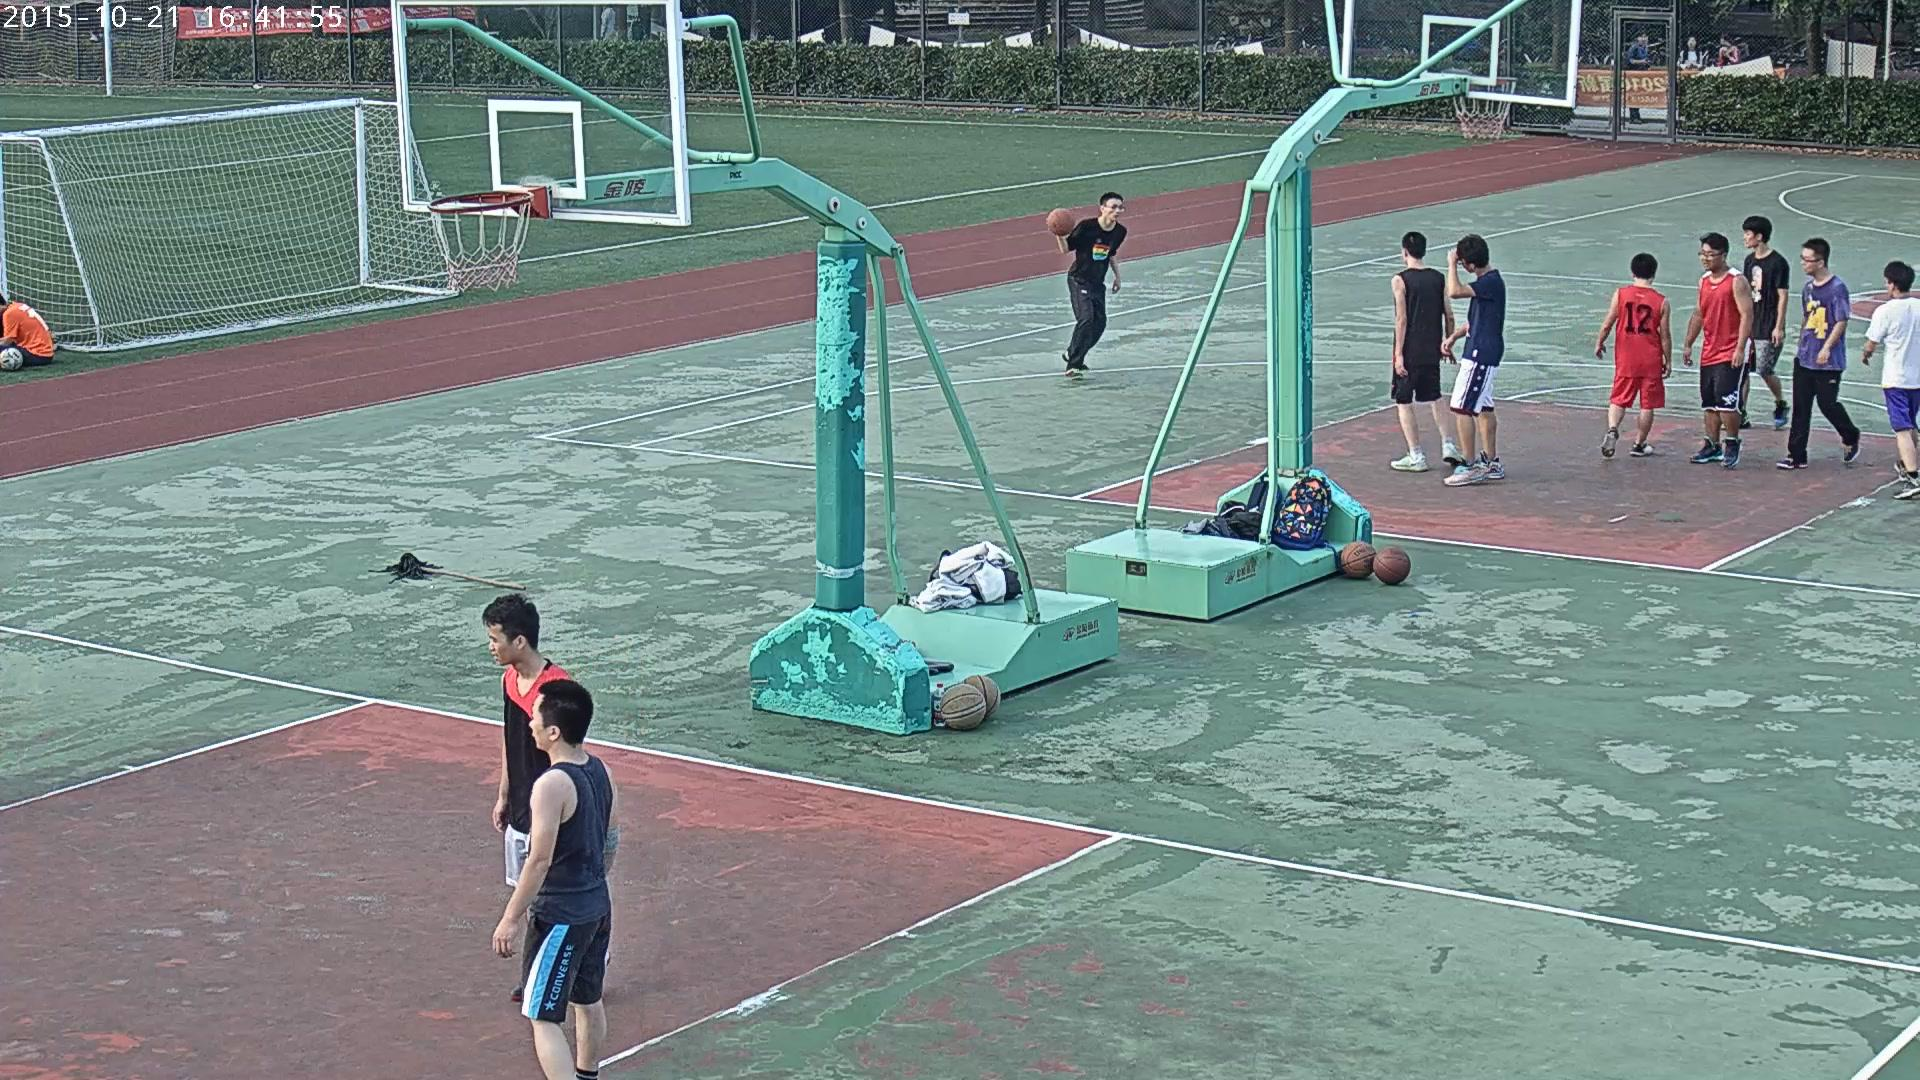face: (487, 623, 515, 664), (529, 694, 550, 748), (1700, 243, 1721, 270), (1800, 248, 1818, 275), (1103, 198, 1122, 220), (1744, 230, 1756, 247), (1461, 259, 1470, 272), (1687, 36, 1694, 48), (1885, 278, 1890, 296), (1638, 34, 1647, 44), (1720, 38, 1725, 45), (1822, 33, 1827, 41)
